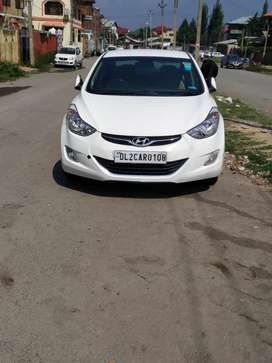DL2CAR0108: (114, 151, 167, 164)
